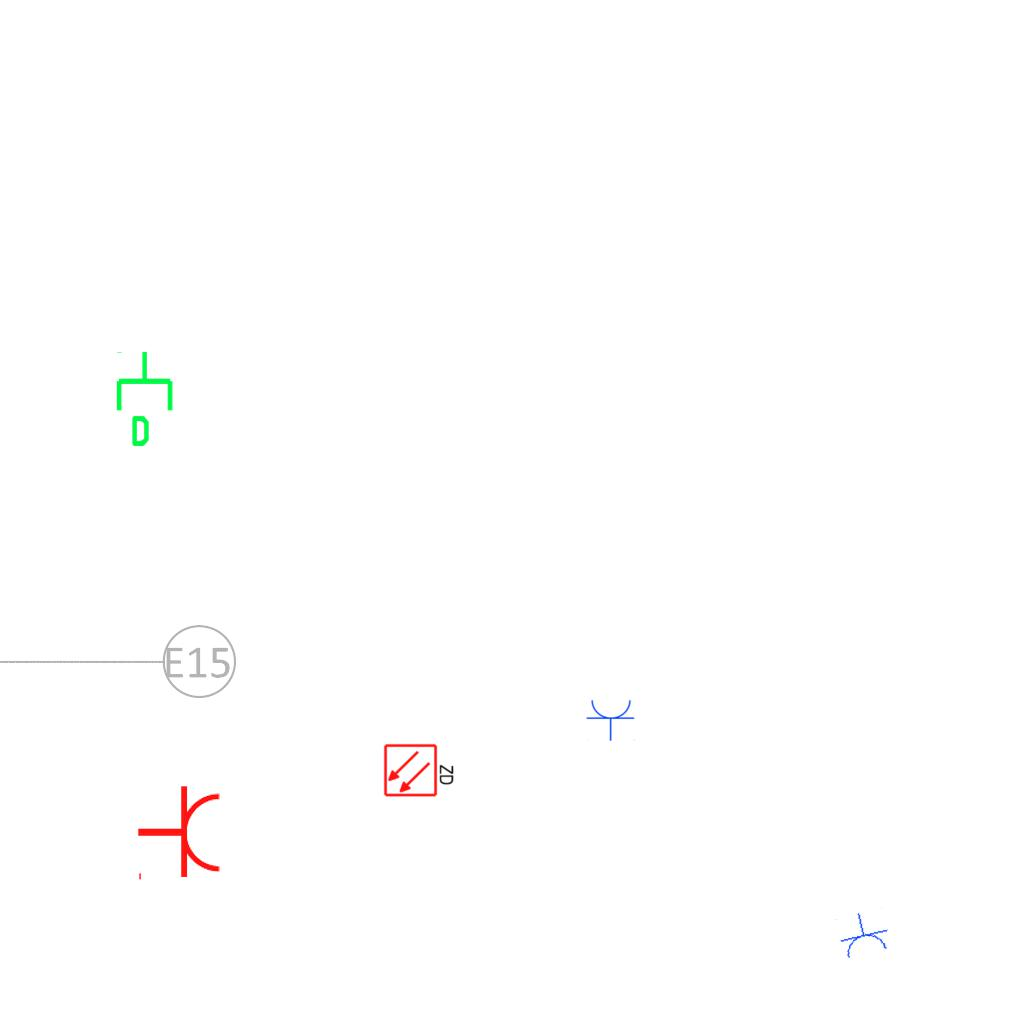Datenanschluss_einfach: (112, 349, 181, 449)
Schukosteckdose_einfach: (136, 784, 223, 884), (833, 907, 893, 962), (586, 698, 636, 741)
ZD_Melder_in_Zwischendecke_mit_Revisionsoeffnung_mind_40_x_40_cm: (383, 741, 457, 798)
